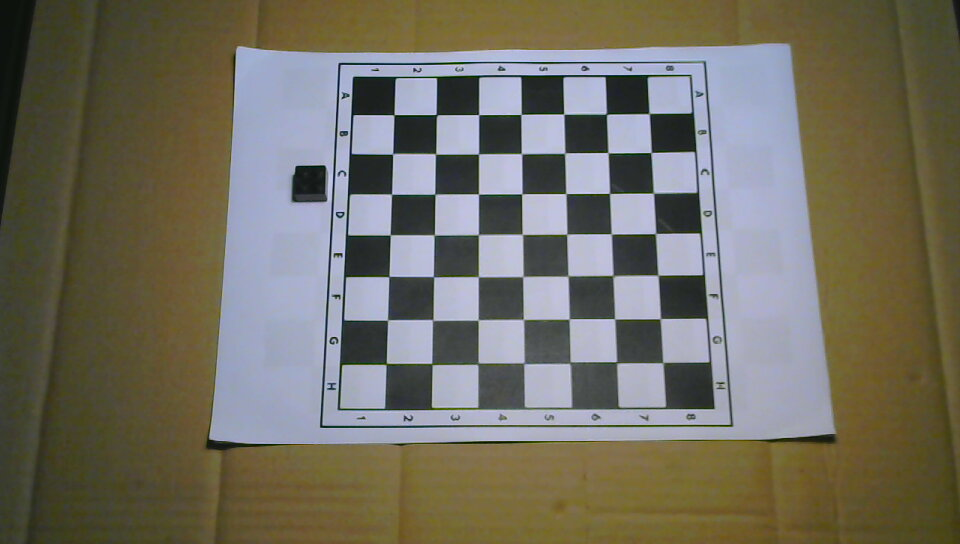bp: (293, 164, 328, 203)
